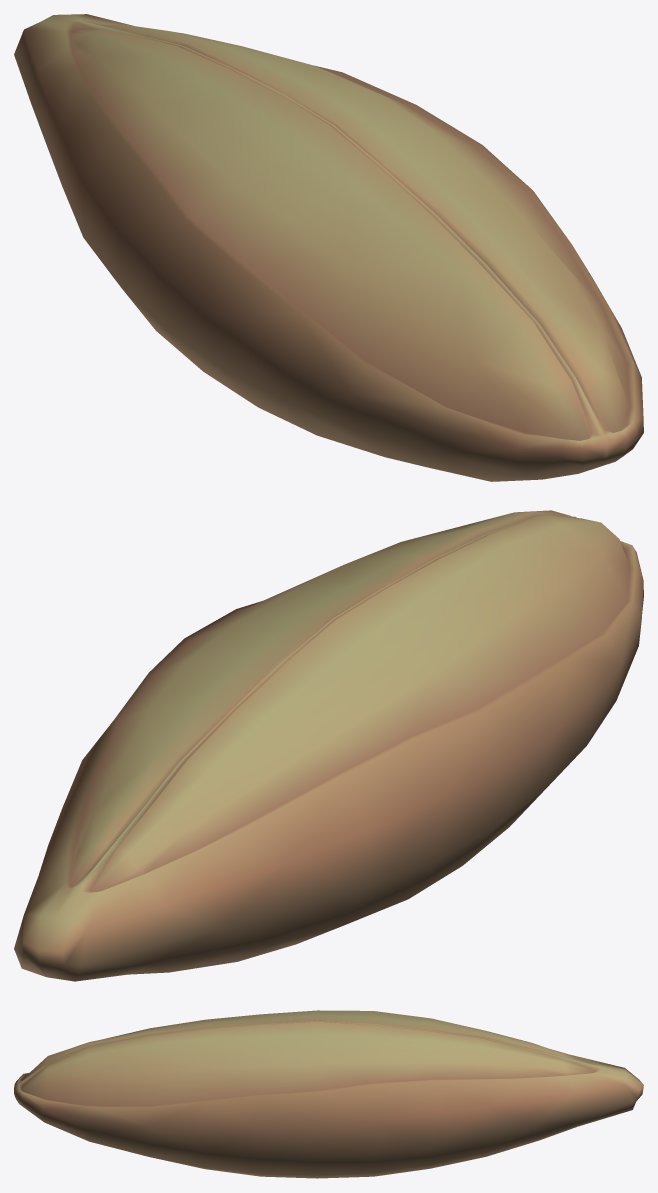
File: trees-seeds-nuts-oat-grain_v1.glb
3 renders of one model, top to bottom at view 1: azimuth 30°, elevation 25°; view 2: azimuth 150°, elevation 25°; view 3: azimuth 270°, elevation 25°, orthographic. The views are drawn at different scales.
Visible parts, largest first — view 1: Oat Grain_v1; view 2: Oat Grain_v1; view 3: Oat Grain_v1.
Part boxes in pixels (x1=…): Oat Grain_v1: x1=14, y1=14, x2=643, y2=481; Oat Grain_v1: x1=14, y1=510, x2=643, y2=981; Oat Grain_v1: x1=14, y1=1010, x2=643, y2=1178.
Bounding box in the file's own units: 0.00419 × 0.00306 × 0.012.
